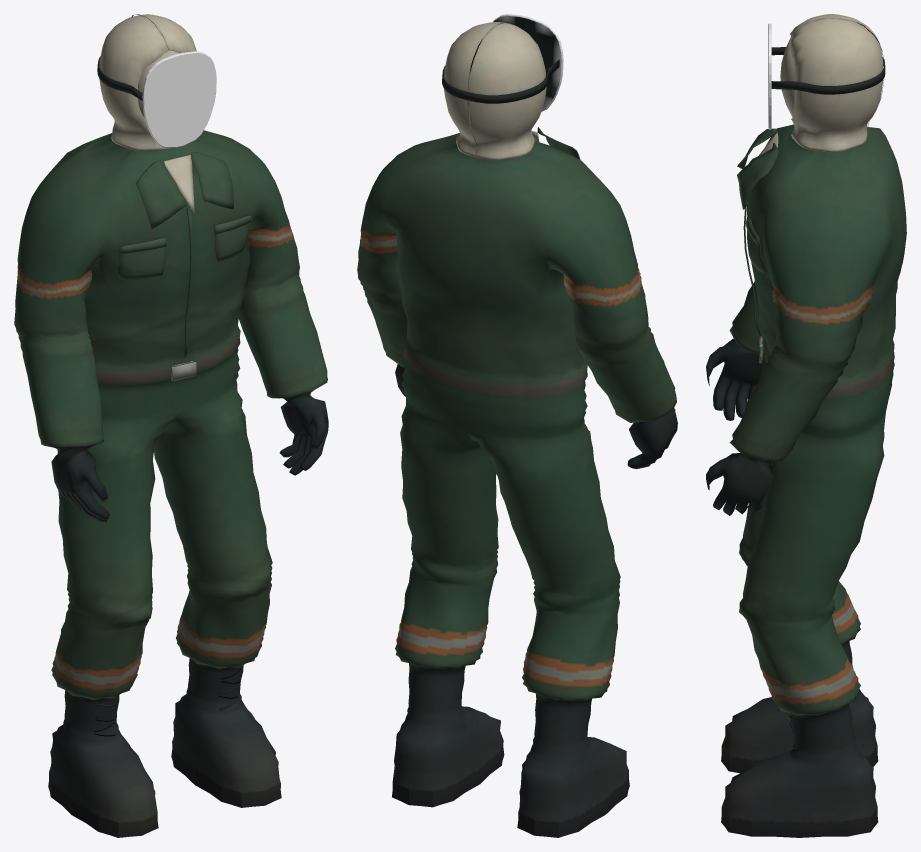
Rendered from printed_player.glb.
3 views of the same model, side by side, from view 1: azimuth 30°, elevation 25°; view 2: azimuth 150°, elevation 25°; view 3: azimuth 270°, elevation 25° (orthographic).
Parts seen in each view (by area): view 1: PLAYER_Mesh, PLAYER_Skin_Hood, PLAYER_Skin_Mask, PLAYER_Skin_Collar, PLAYER_Skin_Pockets, PLAYER_Skin_Fasteners, PLAYER_Skin_Undershirt; view 2: PLAYER_Mesh, PLAYER_Skin_Hood, PLAYER_Skin_Mask, PLAYER_Skin_MaskStrap; view 3: PLAYER_Mesh, PLAYER_Skin_Hood, PLAYER_Skin_Collar, PLAYER_Skin_MaskStrap, PLAYER_Skin_Pockets, PLAYER_Skin_Hood_Lining, PLAYER_Skin_Fasteners, PLAYER_Skin_Mask.
Part boxes in pixels (x1,y1,x2,y2): PLAYER_Mesh: (14, 130, 328, 837); PLAYER_Skin_Hood: (99, 14, 196, 150); PLAYER_Skin_Mask: (142, 51, 216, 147); PLAYER_Skin_Collar: (136, 152, 233, 229); PLAYER_Skin_Pockets: (117, 215, 251, 280); PLAYER_Skin_Fasteners: (171, 207, 196, 381); PLAYER_Skin_Undershirt: (164, 154, 194, 212); PLAYER_Mesh: (357, 133, 677, 837); PLAYER_Skin_Hood: (444, 22, 546, 160); PLAYER_Skin_Mask: (493, 14, 563, 111); PLAYER_Skin_MaskStrap: (442, 59, 559, 103); PLAYER_Mesh: (706, 124, 906, 837); PLAYER_Skin_Hood: (789, 14, 883, 152); PLAYER_Skin_Collar: (737, 128, 778, 209); PLAYER_Skin_MaskStrap: (771, 47, 885, 94); PLAYER_Skin_Pockets: (745, 191, 766, 273); PLAYER_Skin_Hood_Lining: (780, 37, 794, 117); PLAYER_Skin_Fasteners: (743, 198, 762, 363); PLAYER_Skin_Mask: (768, 23, 771, 129).
Size of the model in its own units: 0.6126 by 1.59 by 0.3728.
5 materials, 4 textured.
